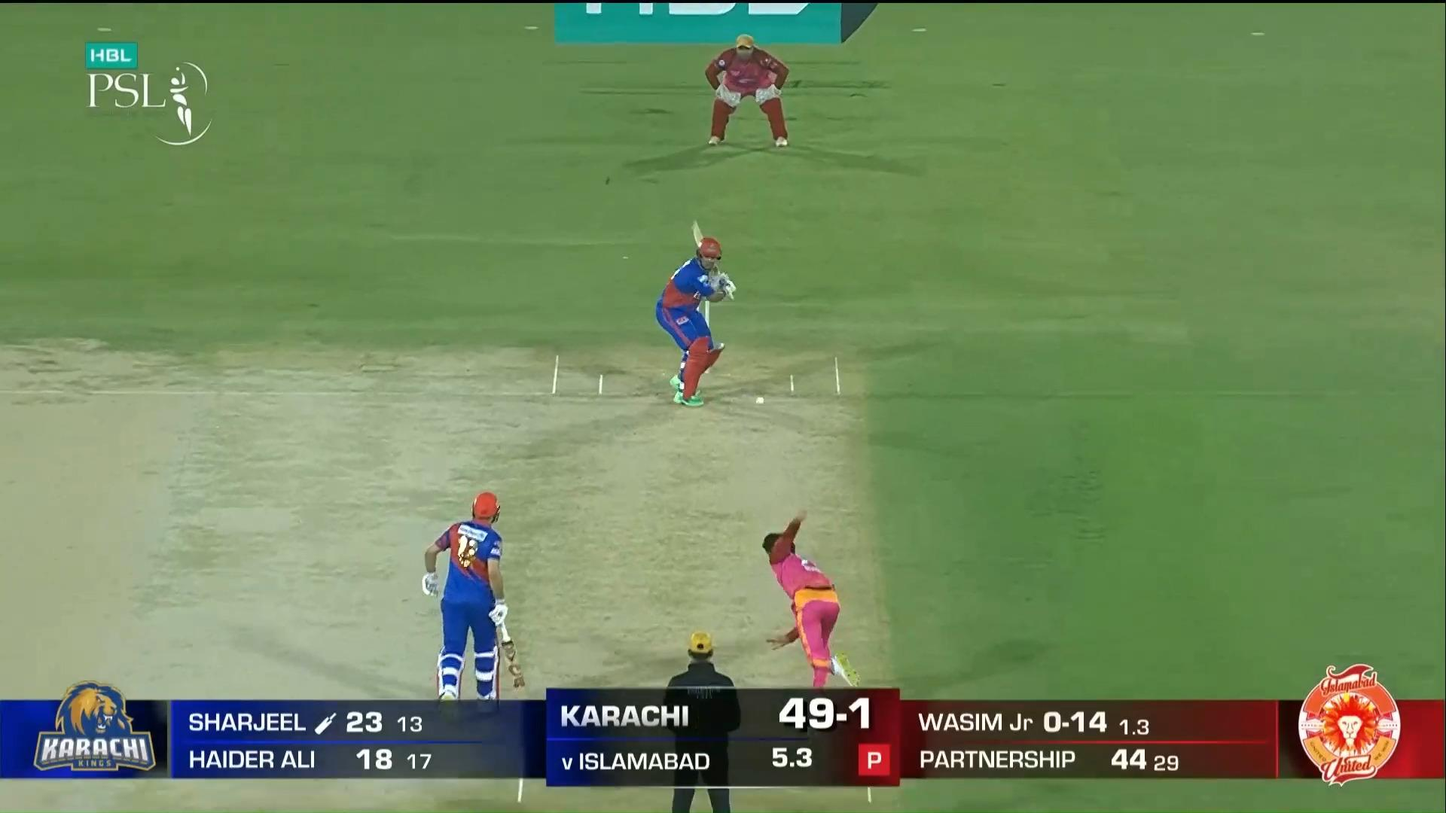batsman: (655, 219, 737, 408)
